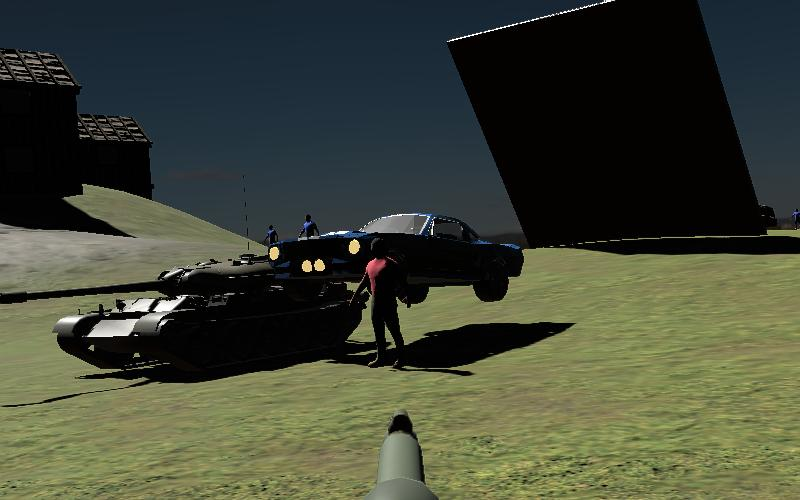House: (0, 44, 90, 218)
Human: (354, 238, 411, 369), (789, 206, 800, 231)
Tank: (0, 251, 363, 384)
car: (264, 208, 526, 305)
